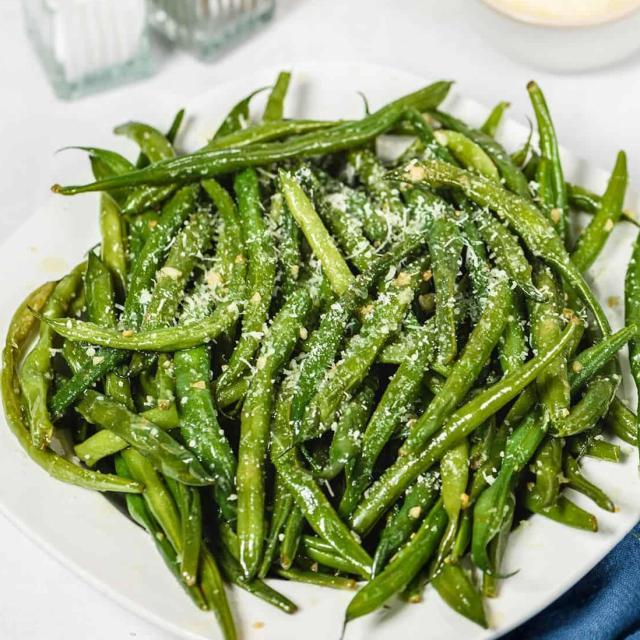Beans: (0, 76, 639, 639)
